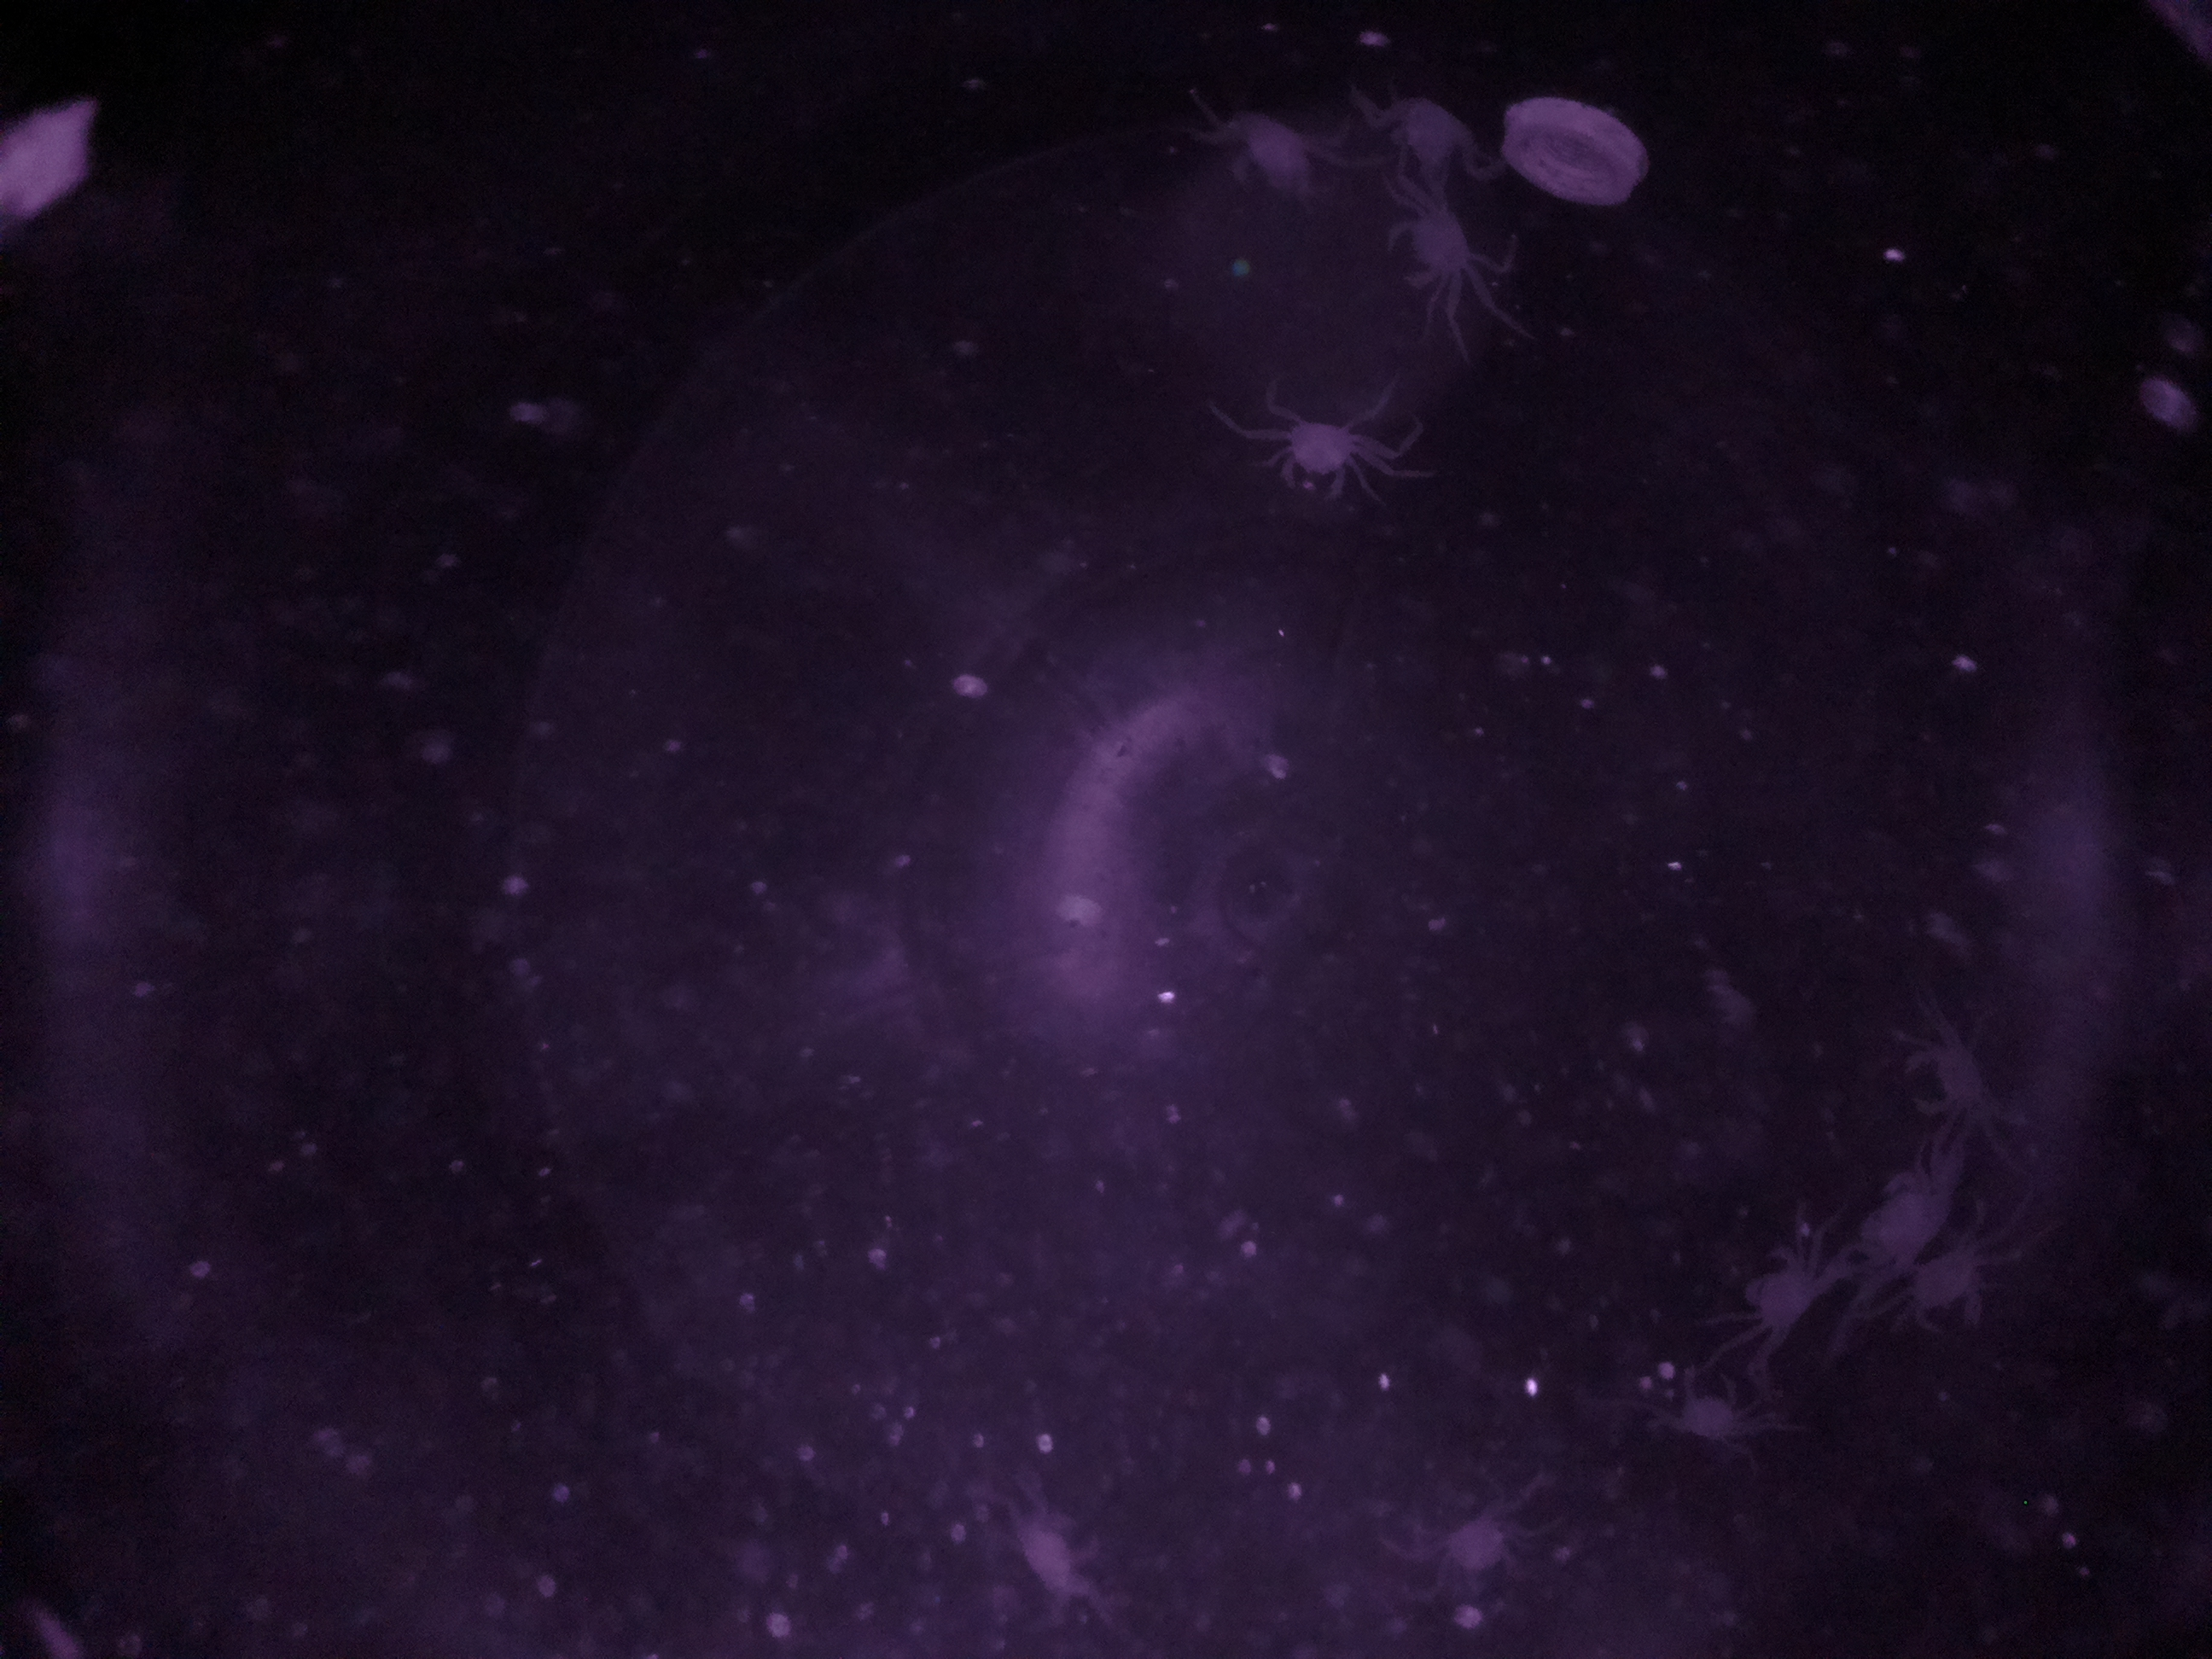Crab: (1432, 1485, 1527, 1607), (1374, 195, 1489, 296), (1264, 401, 1369, 504), (1738, 1237, 1831, 1344)
